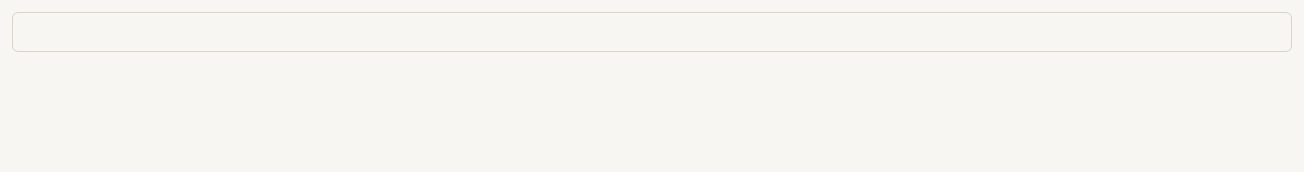
Test: regional location selection regressions › selects canonical Băile Felix by touch after searching baile felix
This screenshot has width=1304, height=172.
Type "baile felix" into the dropdown.
click(652, 32); type("baile felix")  # box [12,12,1292,52]
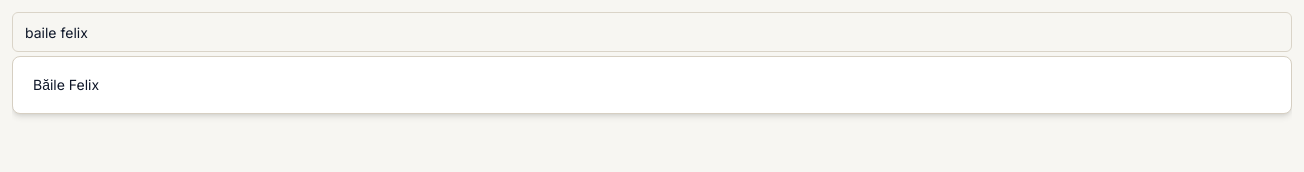
Press the mouse on the option "Băile Felix" at (66, 84), box [17,61,1287,109]
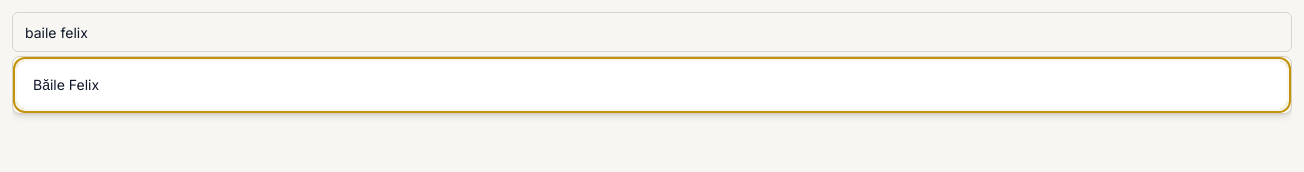
Click the option "Băile Felix".
click(66, 84)  # box [17,61,1287,109]
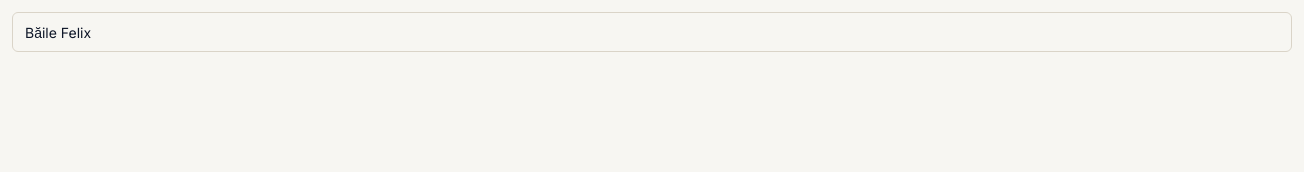
Expected: the dropdown holds "Băile Felix", [12,12,1292,52]
